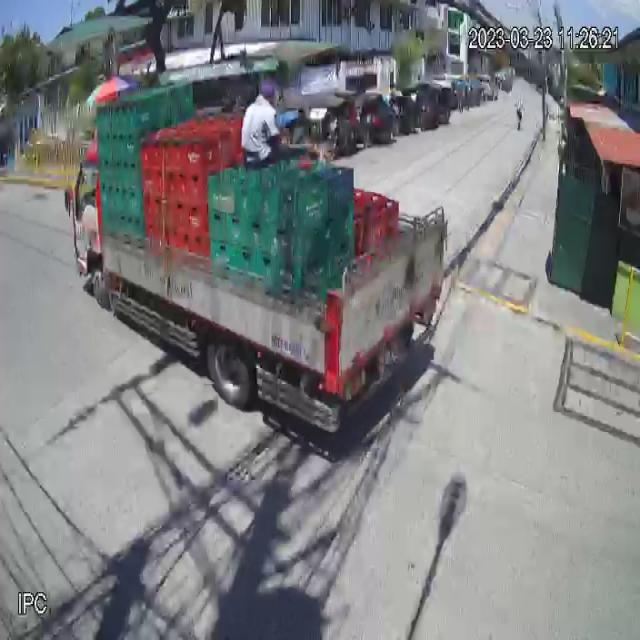Truck: (64, 76, 448, 440)
